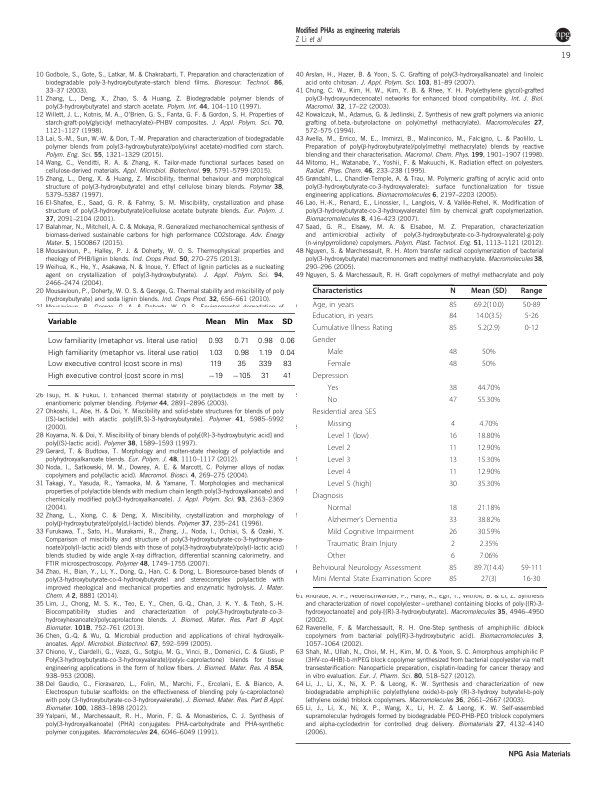borderless: (312, 283, 547, 587), (47, 312, 295, 386)
cell: (46, 349, 199, 358), (46, 337, 198, 346), (46, 372, 184, 381), (46, 360, 183, 369), (312, 575, 432, 585), (312, 563, 422, 573), (326, 527, 415, 537), (312, 324, 394, 334), (326, 515, 398, 525), (326, 539, 398, 549), (312, 312, 374, 322), (312, 408, 377, 417), (312, 287, 363, 296), (312, 300, 355, 310), (326, 480, 373, 489), (326, 432, 370, 441), (470, 287, 508, 296), (312, 372, 349, 381), (473, 300, 505, 310), (473, 563, 505, 573), (312, 492, 344, 501), (475, 312, 503, 322), (326, 503, 352, 513), (312, 336, 337, 346), (46, 318, 77, 326), (477, 324, 501, 334), (477, 503, 501, 513), (477, 515, 501, 525), (477, 527, 501, 537), (326, 420, 352, 429), (520, 563, 543, 573), (326, 360, 351, 369), (326, 444, 351, 453), (326, 456, 351, 465), (326, 468, 351, 477), (477, 384, 501, 393), (477, 396, 501, 405), (477, 432, 501, 441), (477, 444, 501, 453), (477, 456, 501, 465), (477, 468, 501, 477), (477, 480, 501, 489), (478, 539, 499, 549), (326, 551, 347, 561), (478, 551, 499, 561), (520, 287, 543, 296), (522, 300, 541, 310), (522, 575, 541, 585), (478, 420, 499, 429), (326, 348, 344, 358), (480, 575, 498, 585), (231, 372, 251, 381), (204, 318, 226, 326), (256, 337, 273, 346), (524, 312, 539, 322), (524, 324, 539, 334), (481, 348, 496, 358), (207, 337, 223, 346), (233, 337, 249, 346), (279, 337, 295, 346), (207, 349, 223, 358), (233, 349, 249, 358), (279, 349, 295, 358), (207, 372, 223, 381), (256, 318, 273, 326), (481, 360, 496, 369), (257, 349, 272, 358), (257, 360, 272, 369), (233, 318, 249, 326), (208, 360, 222, 369), (326, 384, 339, 393), (326, 396, 338, 405), (448, 300, 458, 310), (448, 312, 458, 322), (448, 324, 458, 334), (448, 348, 458, 358), (448, 503, 458, 513), (448, 515, 458, 525), (448, 527, 458, 537), (448, 563, 458, 573), (448, 575, 458, 585), (281, 318, 293, 326), (448, 360, 458, 369), (448, 384, 458, 393), (448, 396, 458, 405), (448, 432, 458, 441), (448, 444, 458, 453), (448, 456, 458, 465), (448, 468, 458, 477), (448, 480, 458, 489), (236, 360, 246, 369), (282, 360, 292, 369), (260, 372, 270, 381), (282, 372, 292, 381), (449, 287, 457, 296), (450, 539, 456, 549), (450, 551, 456, 561), (450, 420, 456, 429)
